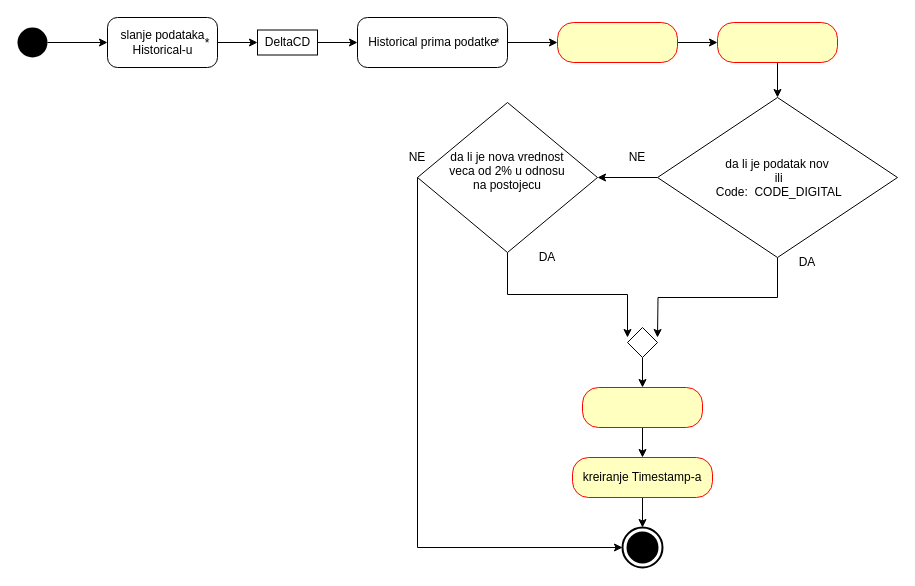
Some shapes in this 915 by 586 pixel diagram are drawn without their labels. The centre of each missing label's shape, as x and y in pixels:
"upis podataka u strukture" belongs at pixel 617 42.
"validacija podataka" belongs at pixel 777 42.
"vrsi se upis u bazu" belongs at pixel 642 407.
